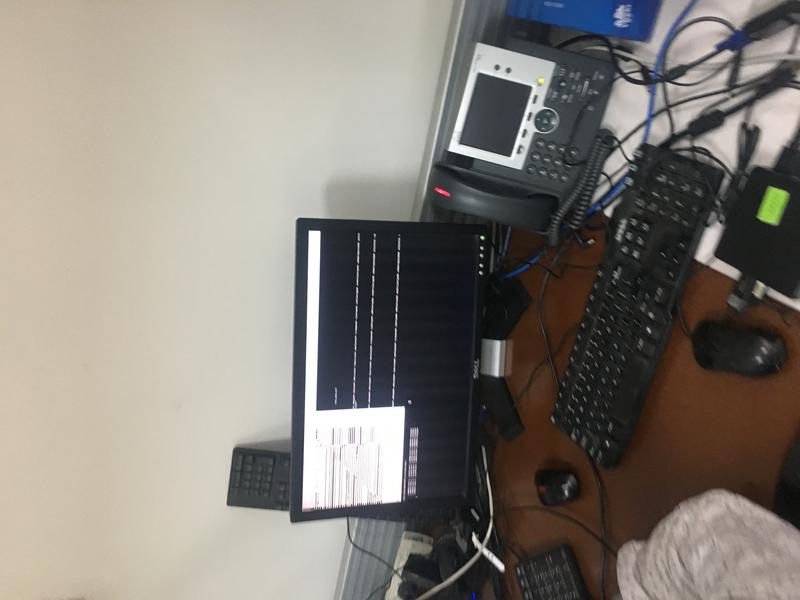xrandr_pass: (292, 403, 407, 513)
